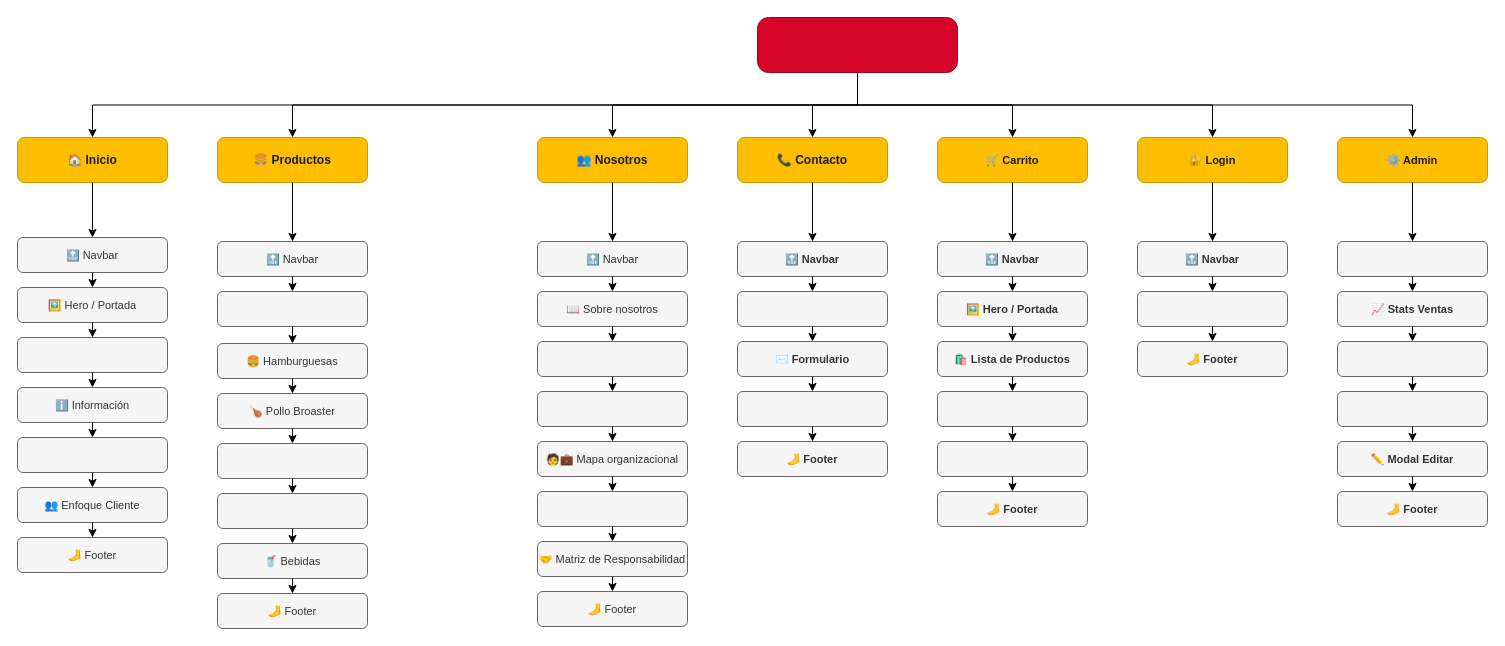
Image size: 1505x646. Some labels were removed from this diagram. The centre of each missing label's shape, as x and y in pixels:
➕ Botón Añadir Prod.: the point at 1412,358
🌐 SpeedBurger: the point at 857,44
🍔 3 Productos: the point at 92,454
🍗 Nuggets: the point at 292,510
🍟 Salchipapa: the point at 292,460
🎥 Vídeo de presentacion: the point at 92,354
🎯 Misión y Visión: the point at 612,358
👤 Formulario Ingreso: the point at 1212,308
💳 Botón Confirmar: the point at 1012,458
📋 Tabla CRUD: the point at 1412,408
📌 Objetivos: the point at 612,408
📍 Mapa Interactivo: the point at 812,308
📝 C.V. Integrantes: the point at 612,508
🔍️ Búsqueda / Filtrado: the point at 292,308
🔝 Topbar (Admin): the point at 1412,258
🕒 Datos de Contacto: the point at 812,408
🧾 Resumen del Pedido: the point at 1012,408
